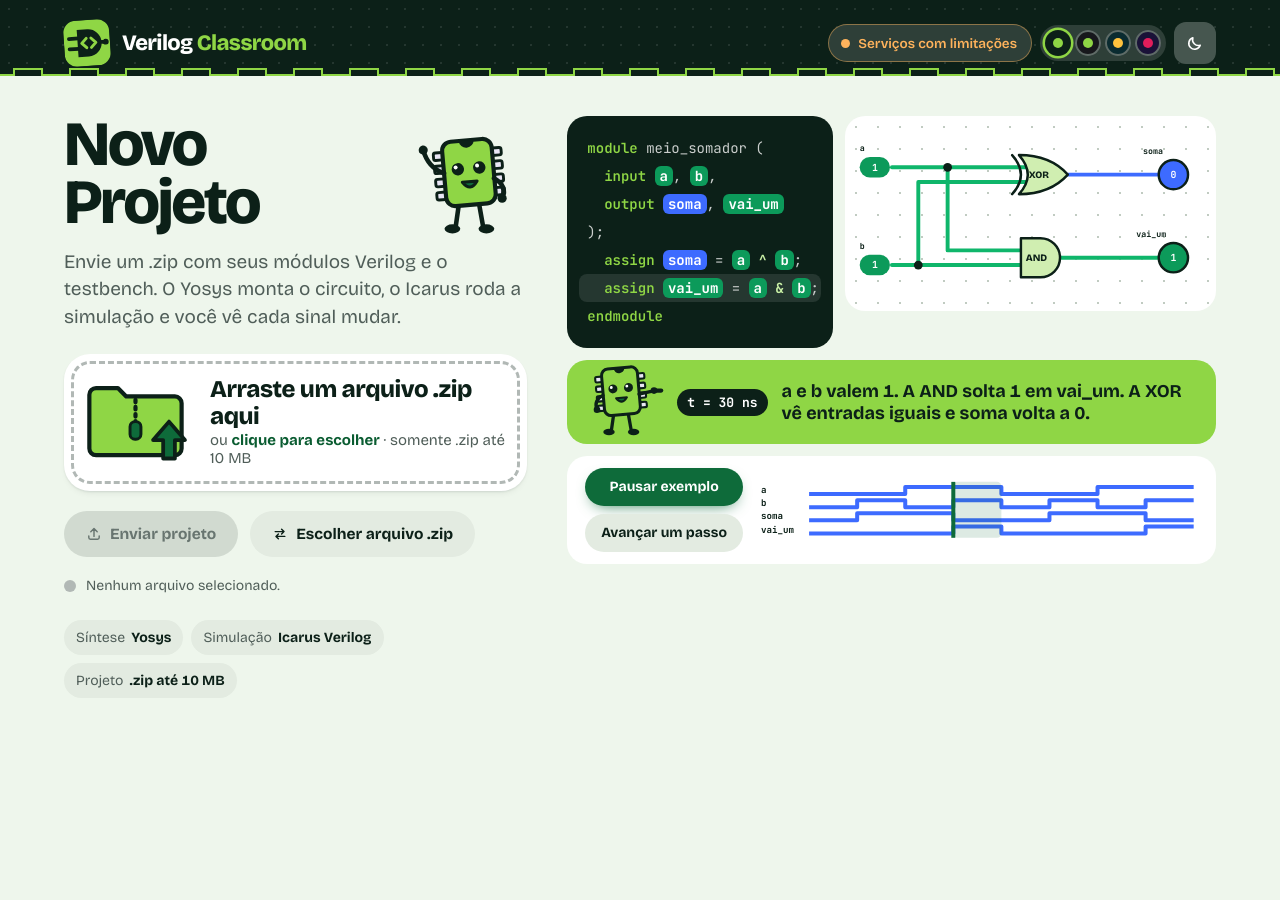
it: indicador de disponibilidade (/status/) › Icarus degradado e recuperação ao verificar novamente
Step 1. Click the button "Serviços com limitações" → (930, 43), box [828,24,1032,62]
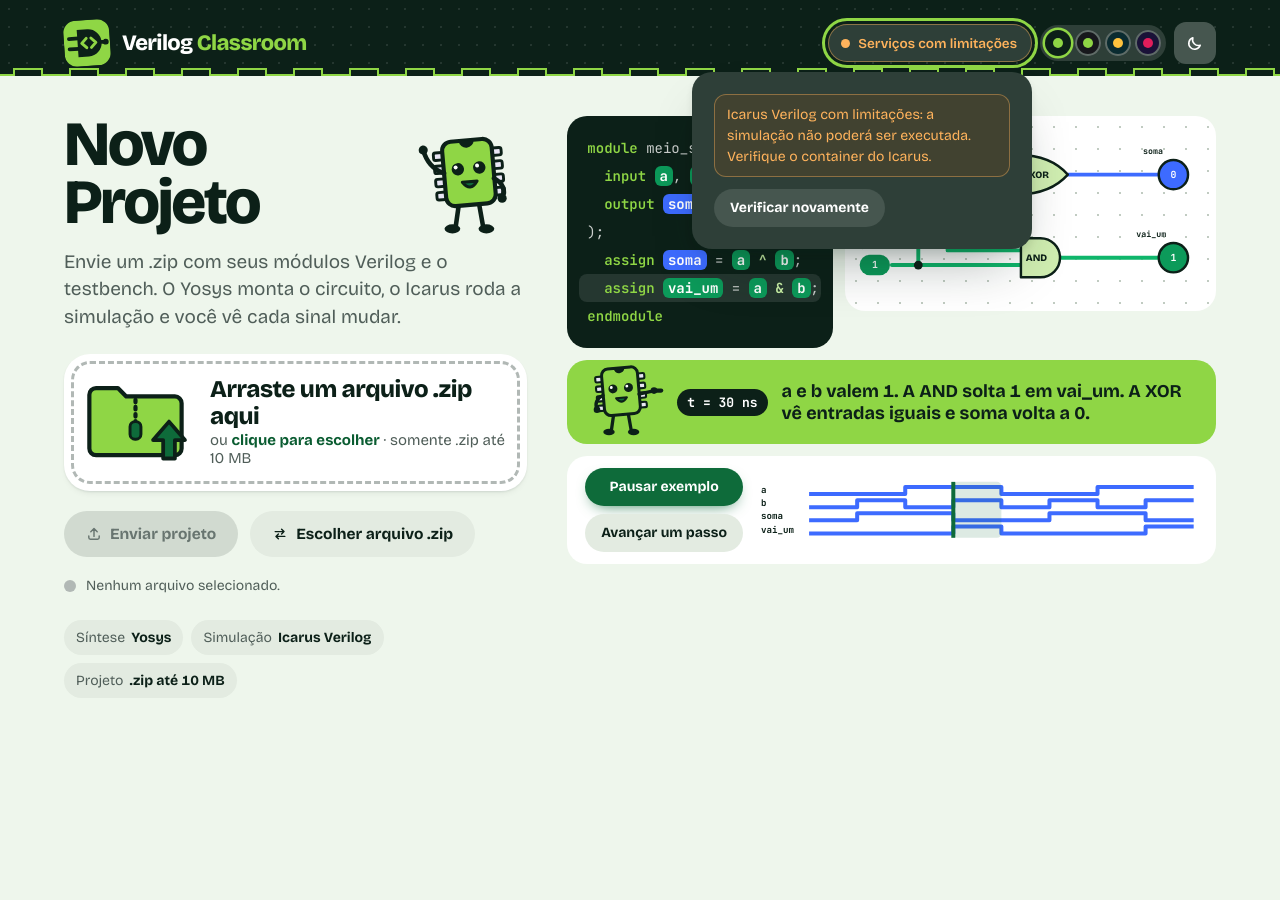
Step 2. Click the button "Verificar novamente" → (799, 208), box [714,189,885,227]
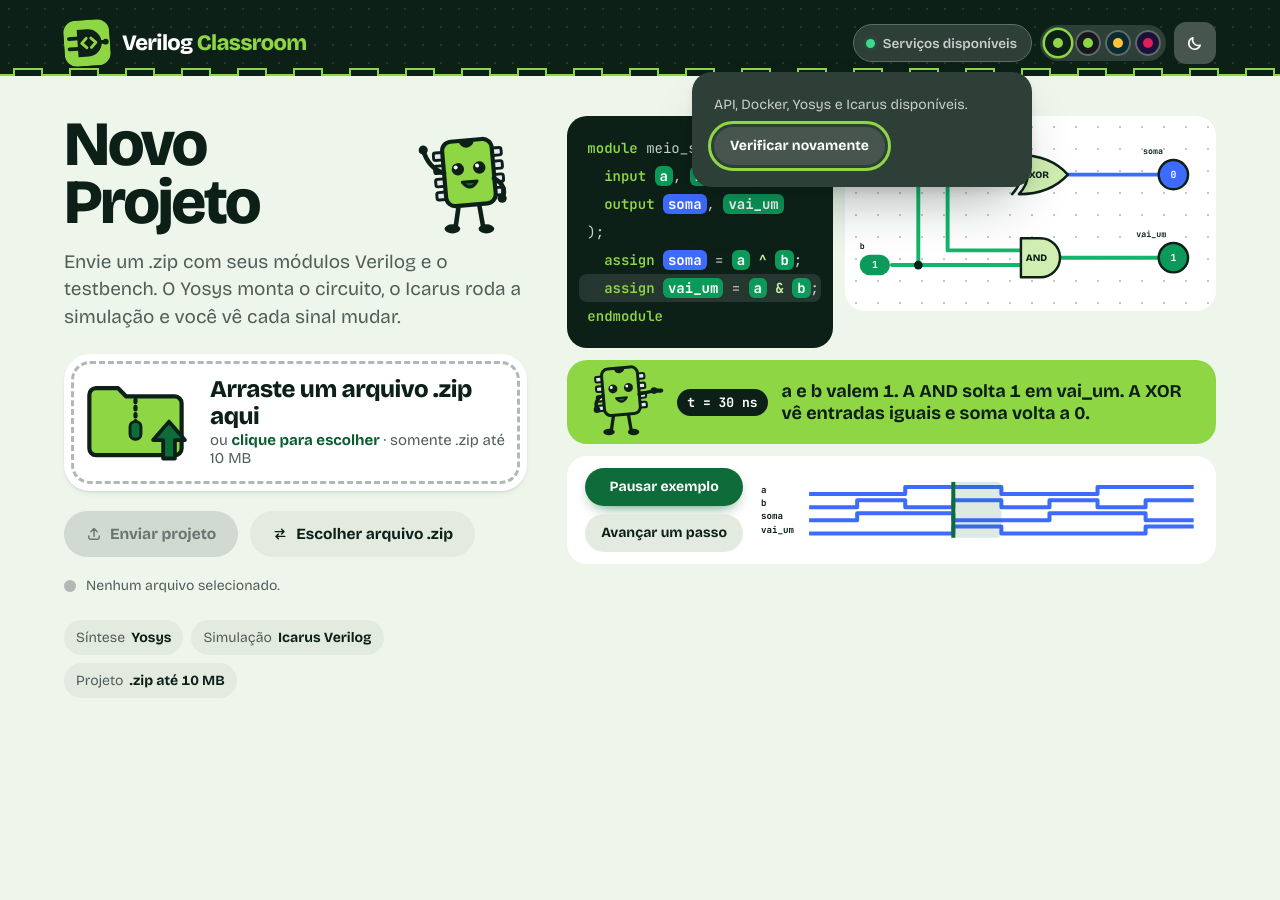
Expected: the button "Serviços disponíveis" is shown, [853,24,1032,62]
